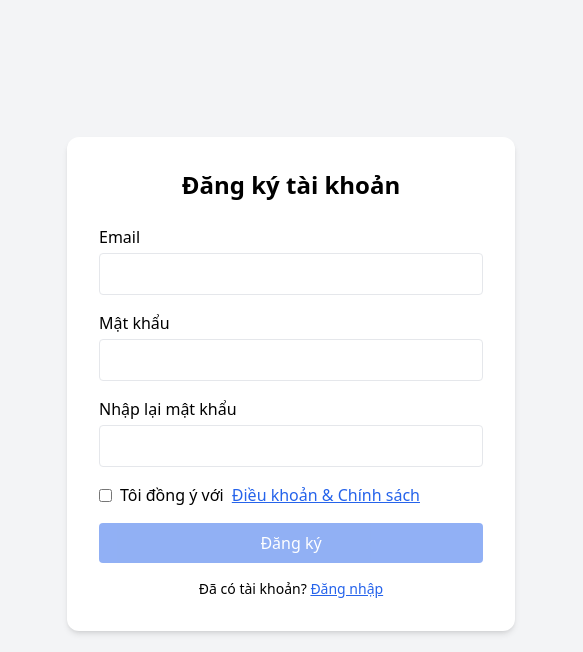
Test case: RegisterPage › submit thành công khi nhập đúng
Type "test@example.com" into the field labelled "Email" at x=291, y=274, box [99, 253, 483, 295]
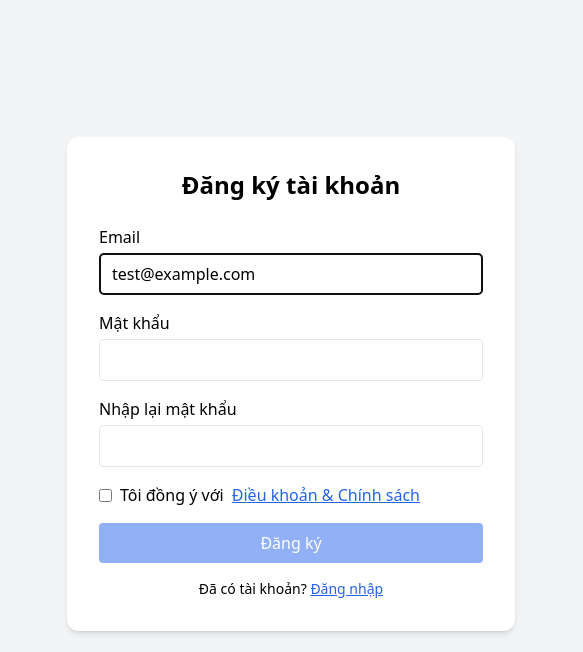
Type "Test123!" into the password field labelled "Mật khẩu" at x=291, y=360, box [99, 339, 483, 381]
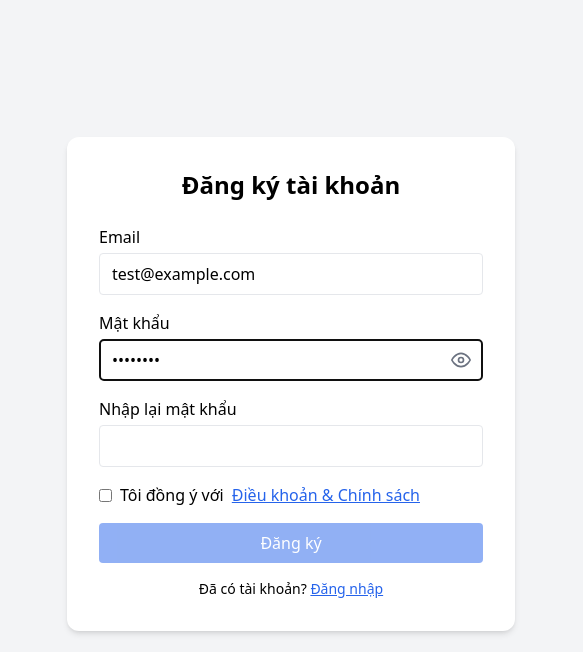
Type "Test123!" into the password field labelled "Nhập lại mật khẩu" at x=291, y=446, box [99, 425, 483, 467]
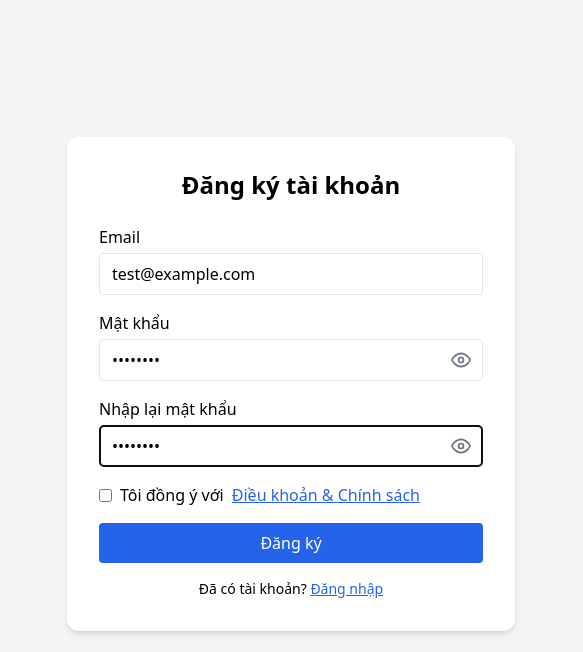
Click the checkbox at x=106, y=495, box [99, 488, 112, 502]
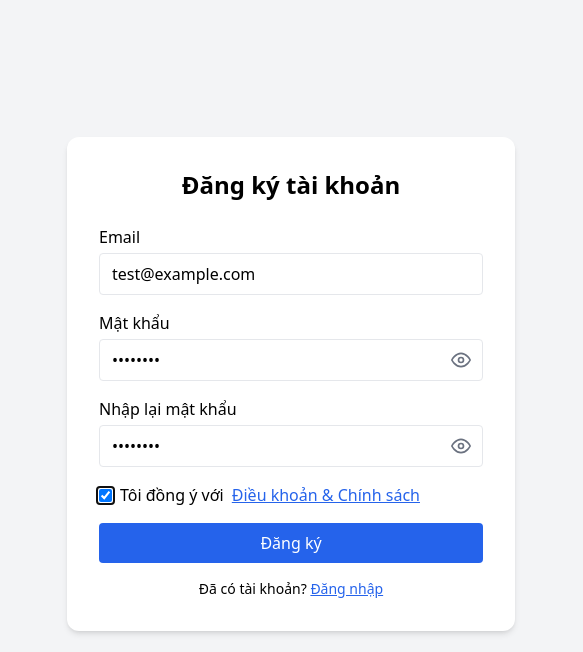
Expected: the button "Đăng ký" is enabled
Click the button "Đăng ký" at x=291, y=543, box [99, 523, 483, 563]
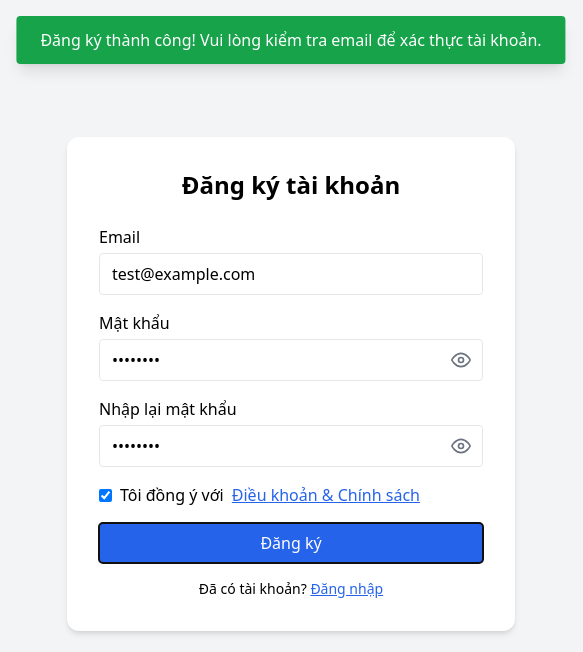
Expected: the text "Đăng ký thành công" is shown, [40, 29, 542, 51]
